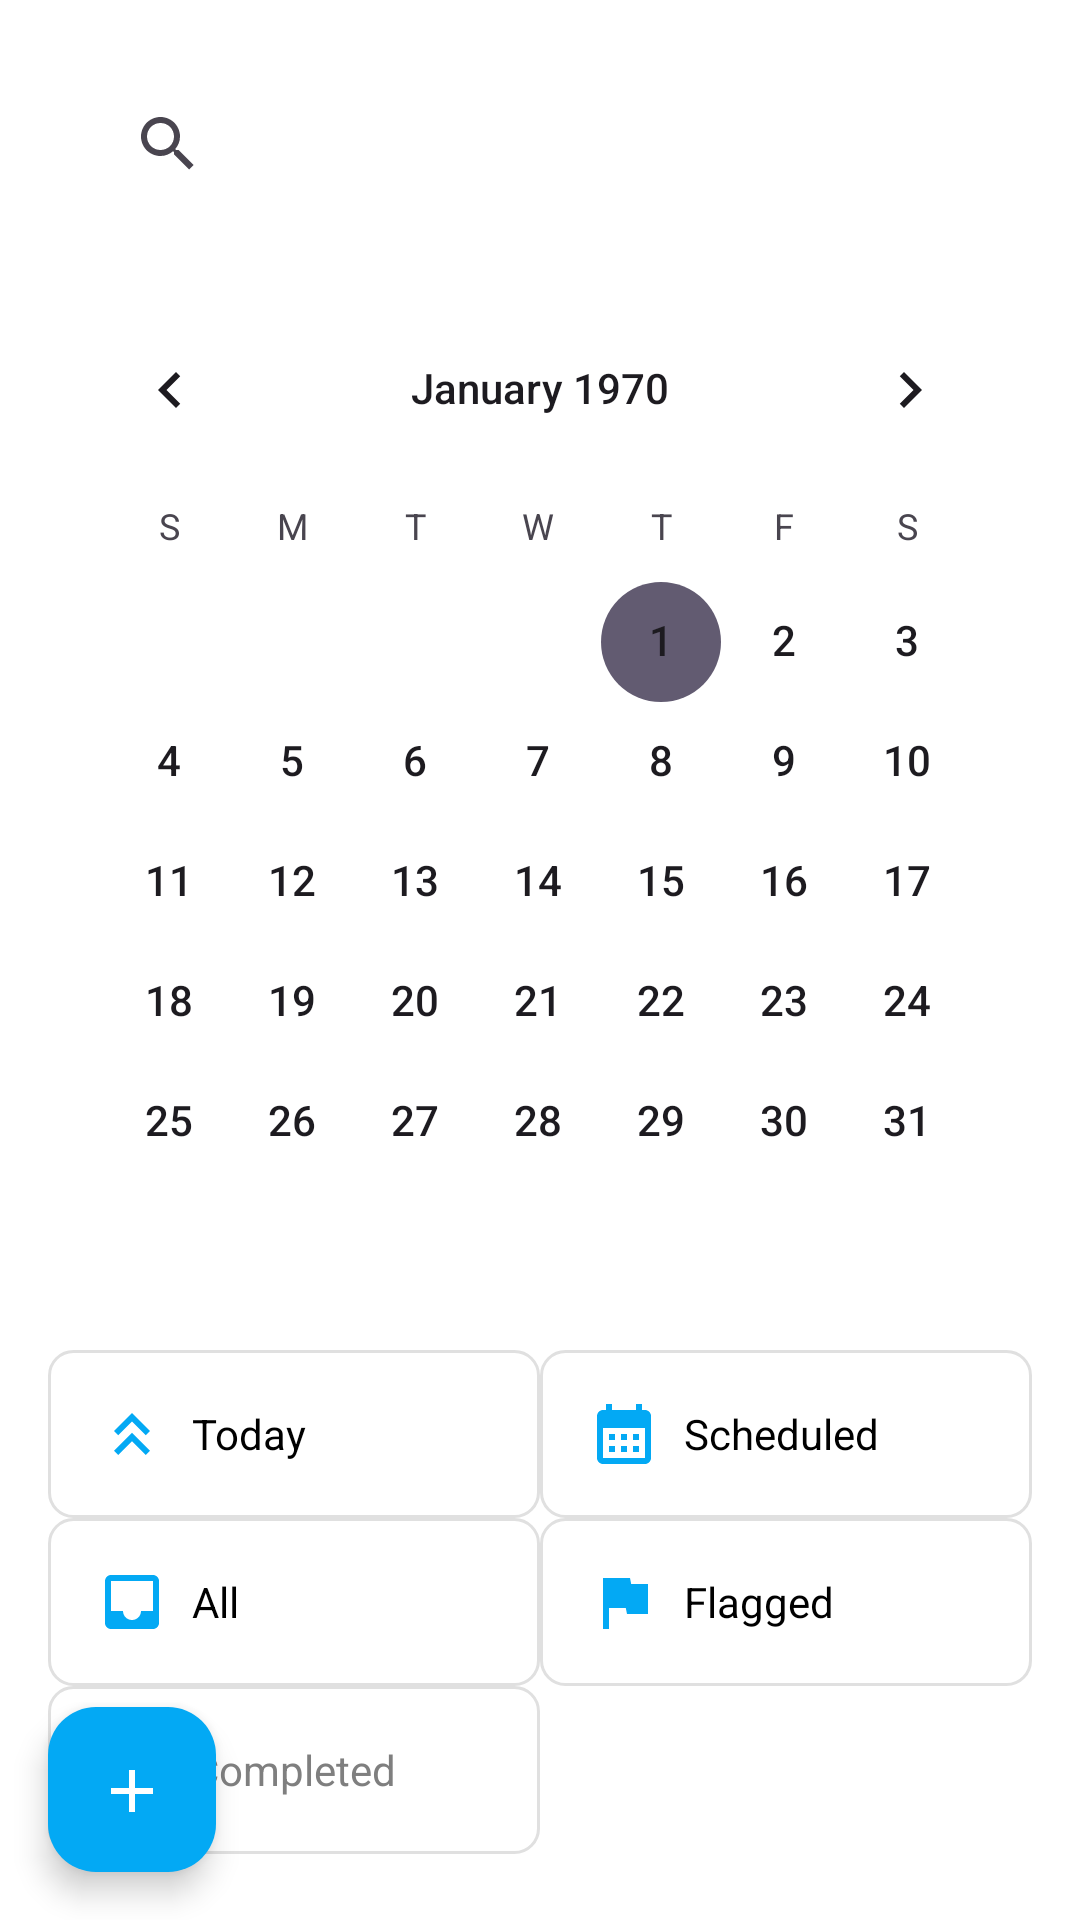

Icon bounding boxes for this 1080*1920 phone screenshot, format (x1,y1,x2,y2):
add: (48,1707,216,1872)
calendar: (597,1404,651,1464)
